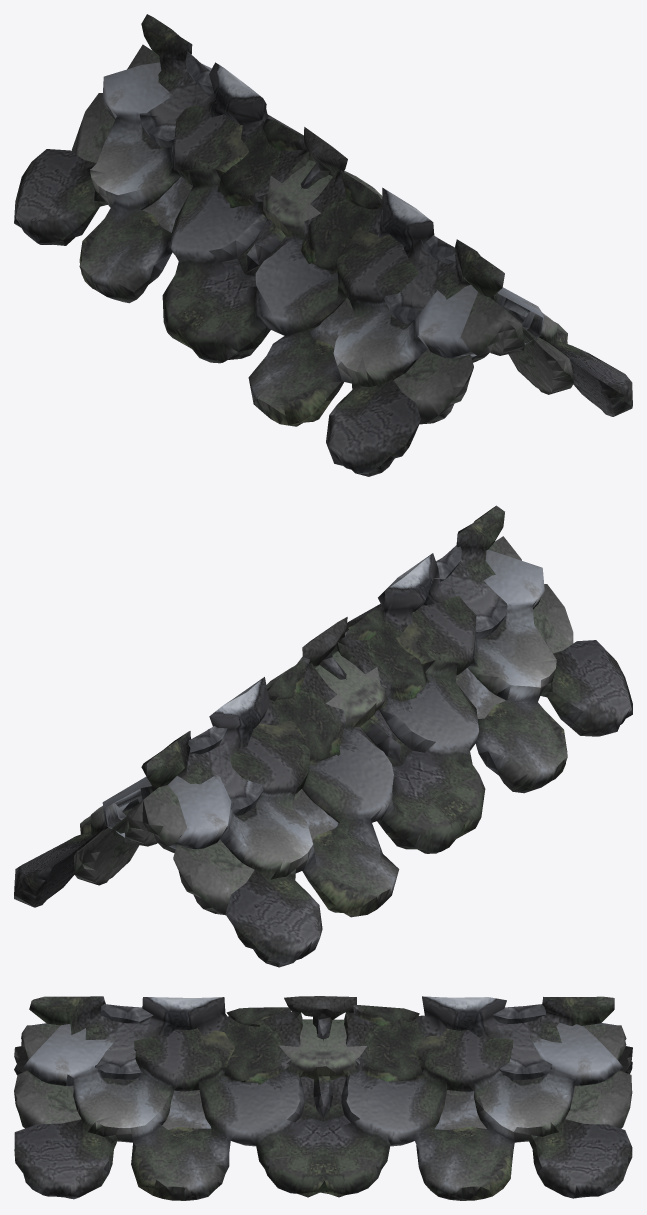
The model's file is SM_Roof_Cap_03.fbx.
The picture shows the model from 3 angles, top to bottom: view 1: azimuth 30°, elevation 25°; view 2: azimuth 150°, elevation 25°; view 3: azimuth 270°, elevation 25°; orthographic projection. The views are drawn at different scales.
Visible parts, largest first — view 1: SM_Roof_Cap_03_LOD0; view 2: SM_Roof_Cap_03_LOD0; view 3: SM_Roof_Cap_03_LOD0.
Boxes of the visible parts, x1,y1,x2,y2 form: SM_Roof_Cap_03_LOD0: (14,14,632,476); SM_Roof_Cap_03_LOD0: (14,505,632,967); SM_Roof_Cap_03_LOD0: (14,996,632,1200).
Size of the model in its own units: 89.99 by 194 by 53.23.
